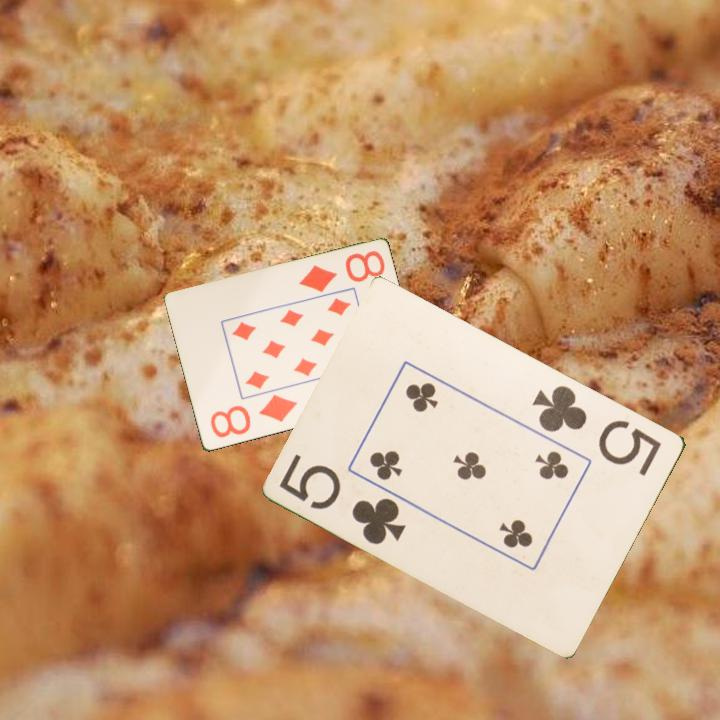5c: (528, 381, 665, 479), (276, 450, 409, 548)
8d: (207, 391, 300, 441), (295, 247, 388, 296)
